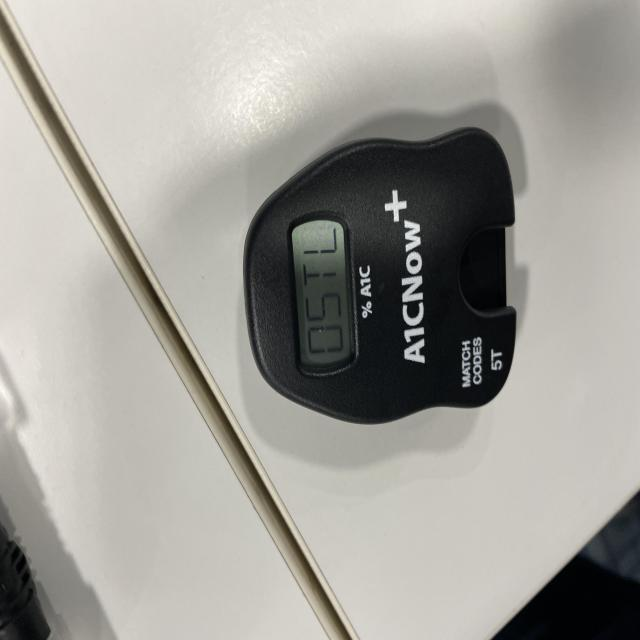hba1c: (241, 126, 519, 465)
